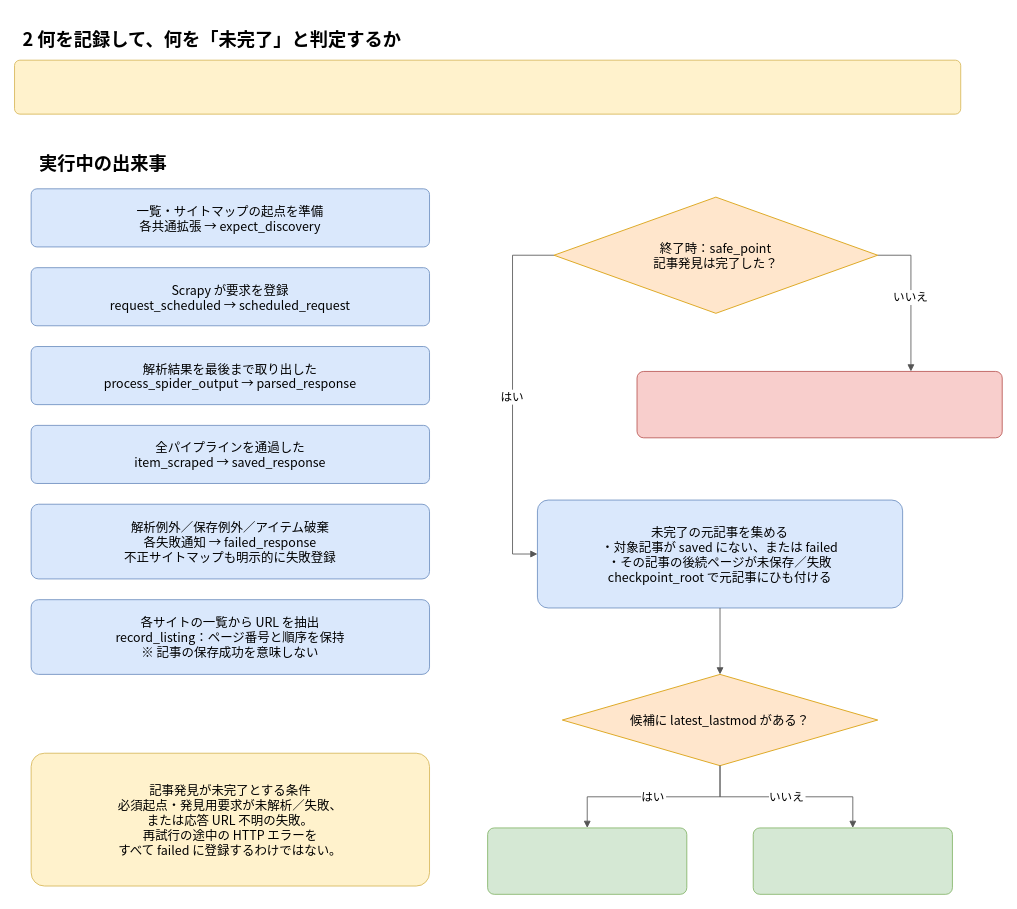
Some shapes in this 1017 by 909 pixel diagram are drawn without their labels. Here are the shapes that lost their labels. From the top down, the centre of each, then its label:
At point 487,86: "目的：HTTP 200 や一覧への掲載だけで完了にしない。記事の発見と、記事の保存を別々に確認する。".
At point 819,404: "前回位置を返す 未発見記事の時刻・順序を推測しない".
At point 587,860: "はい：日時方式 3 ページ目".
At point 852,860: "いいえ：URL 方式 4 ページ目".
